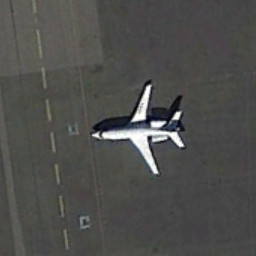Airplane: (79, 76, 193, 188)
